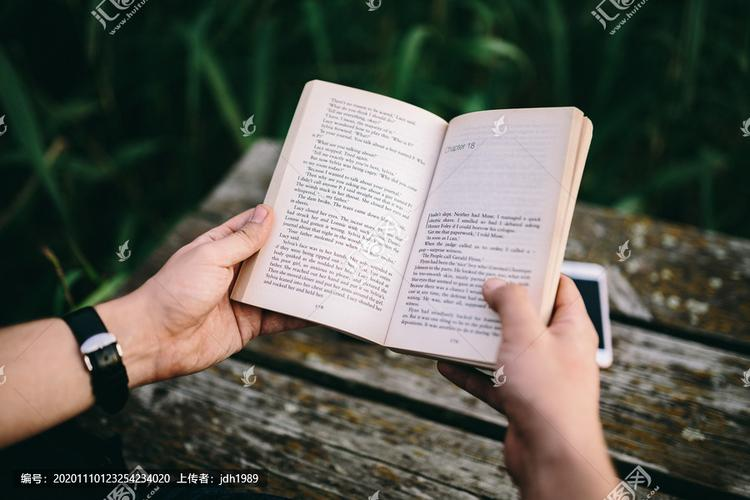no-phone: (136, 194, 364, 382), (431, 260, 607, 492)
